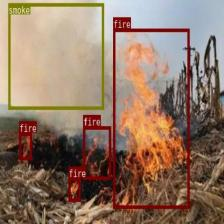fire: (113, 28, 189, 208), (83, 126, 111, 179), (19, 132, 32, 160), (68, 178, 80, 200)
smoke: (8, 2, 103, 109)
